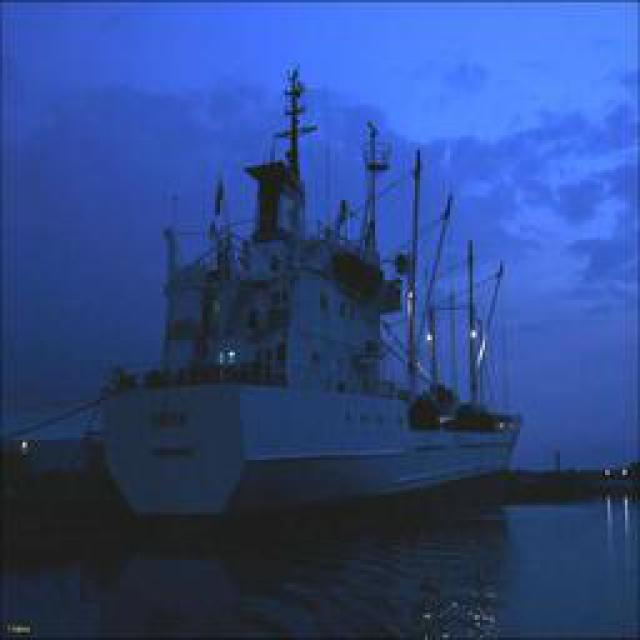Ship: (72, 83, 520, 521)
